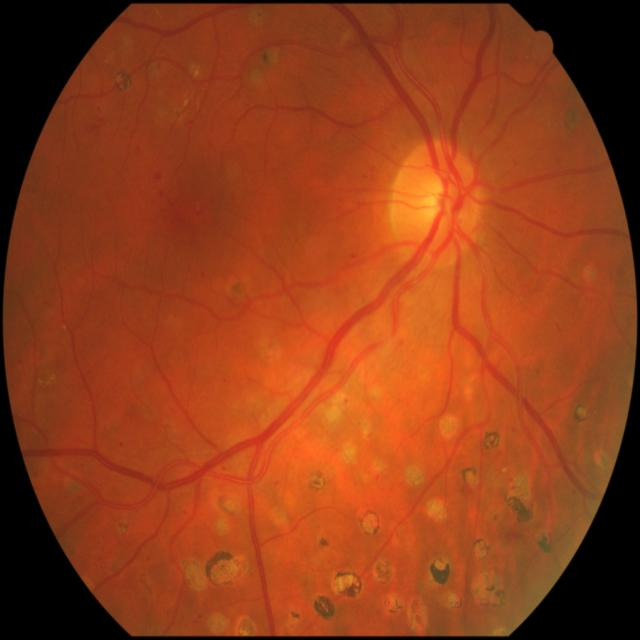OC: (422, 180, 452, 220)
OD: (389, 139, 481, 264)
